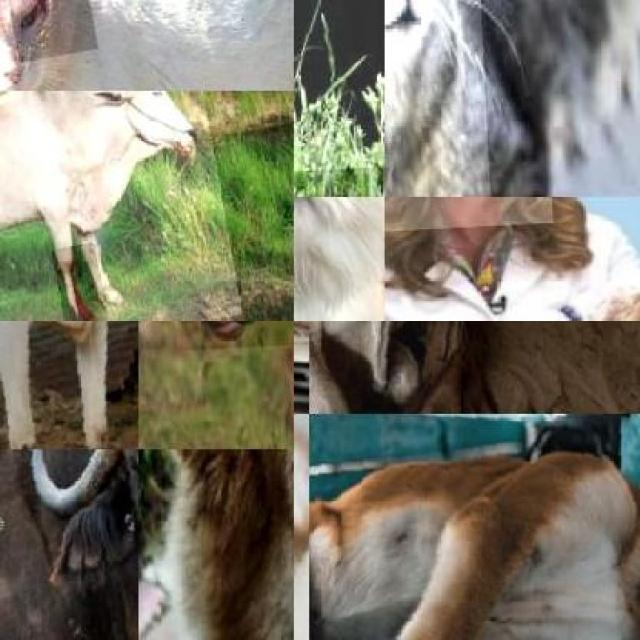buffalo: (0, 449, 138, 640), (294, 0, 384, 174)
cat: (0, 0, 294, 91), (385, 0, 489, 197), (294, 197, 384, 320)
cow: (0, 91, 242, 320), (0, 320, 138, 449), (310, 320, 496, 414)
dog: (309, 414, 640, 640), (138, 449, 294, 640)
injured: (241, 449, 294, 640), (0, 0, 97, 62), (51, 242, 108, 320)
